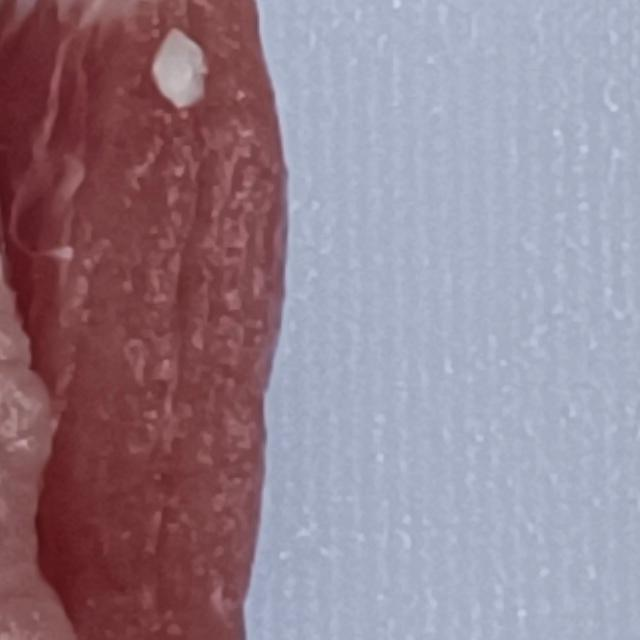pork: (0, 0, 262, 640)
